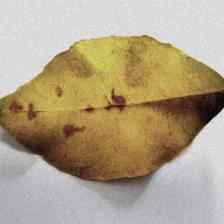black spot: (8, 86, 136, 144)
